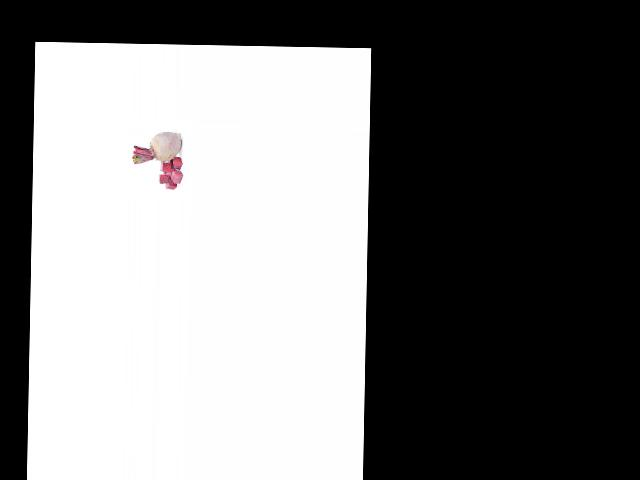beet: (132, 131, 182, 165)
